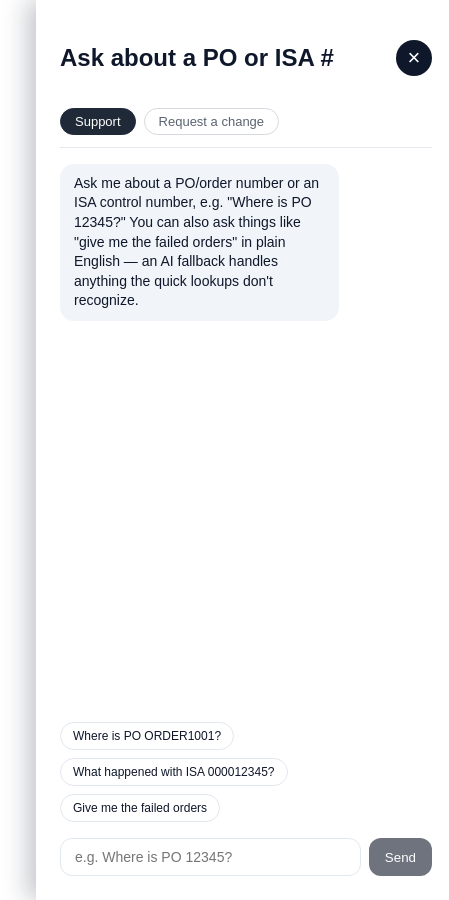
Test: ChatPanel › submits chat feedback with the rating and comment, then shows a thank-you
Type "Where is PO ORDER1001?" into the field with placeholder "e.g. Where is PO 12345?" at [210, 857], box x1=60 y1=838 x2=361 y2=876
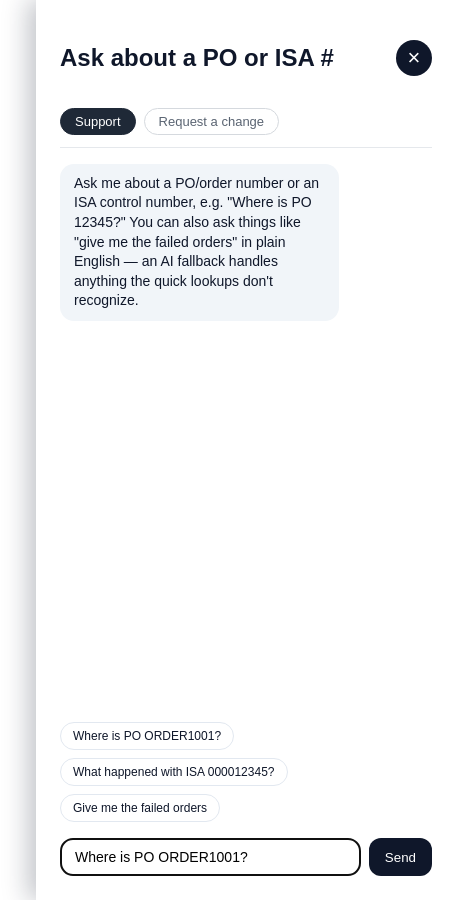
Click the button "Send" at [400, 857], box x1=369 y1=838 x2=432 y2=876
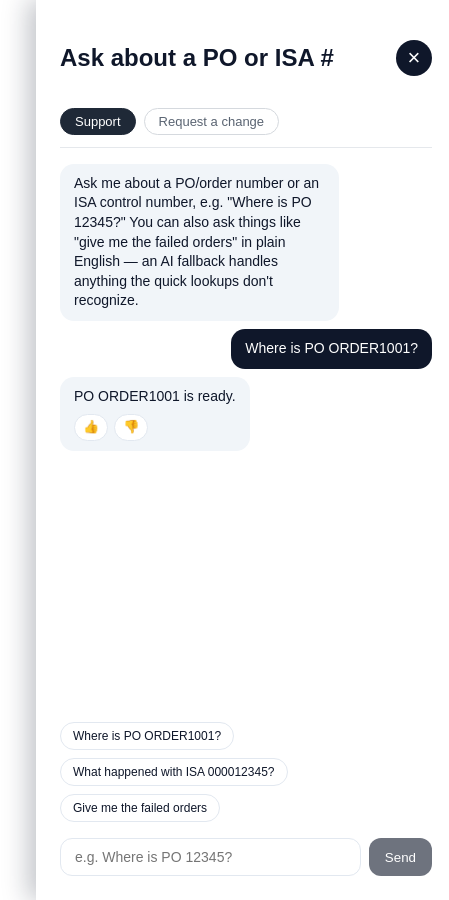
expect the text "PO ORDER1001 is ready." is shown: met, box x1=74 y1=388 x2=236 y2=404
Click the button named "Not helpful" at [131, 428], box x1=114 y1=414 x2=148 y2=441
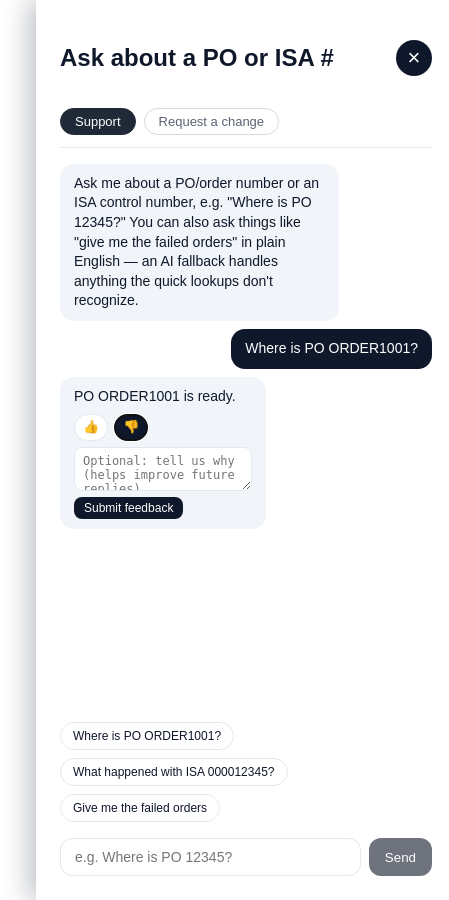
Type "Missed the ISA number." into the text box with placeholder "Optional: tell us why (helps improve future replies)" at [163, 469], box x1=74 y1=447 x2=252 y2=491
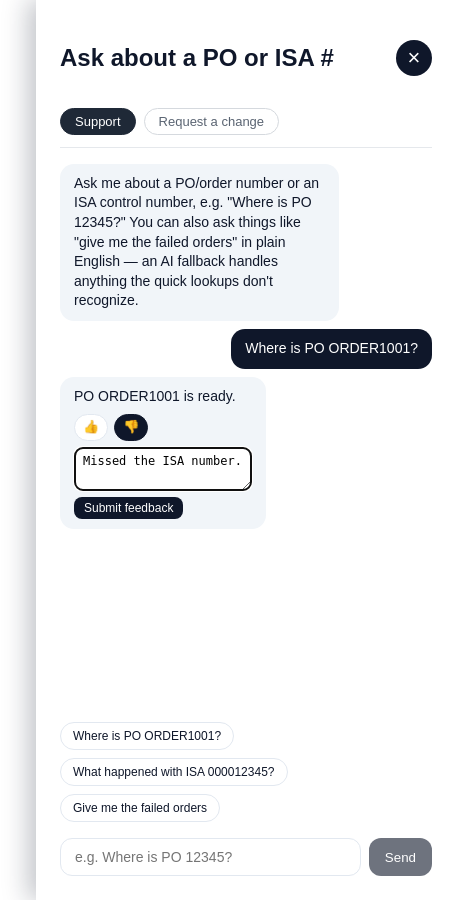
Click the button "Submit feedback" at [129, 508], box x1=74 y1=497 x2=183 y2=519
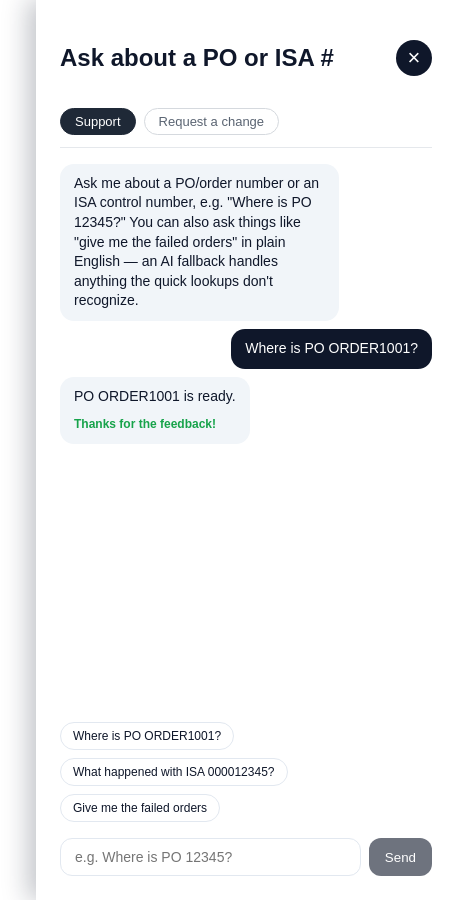
expect the text "Thanks for the feedback!" is shown: met, box x1=74 y1=417 x2=216 y2=431
